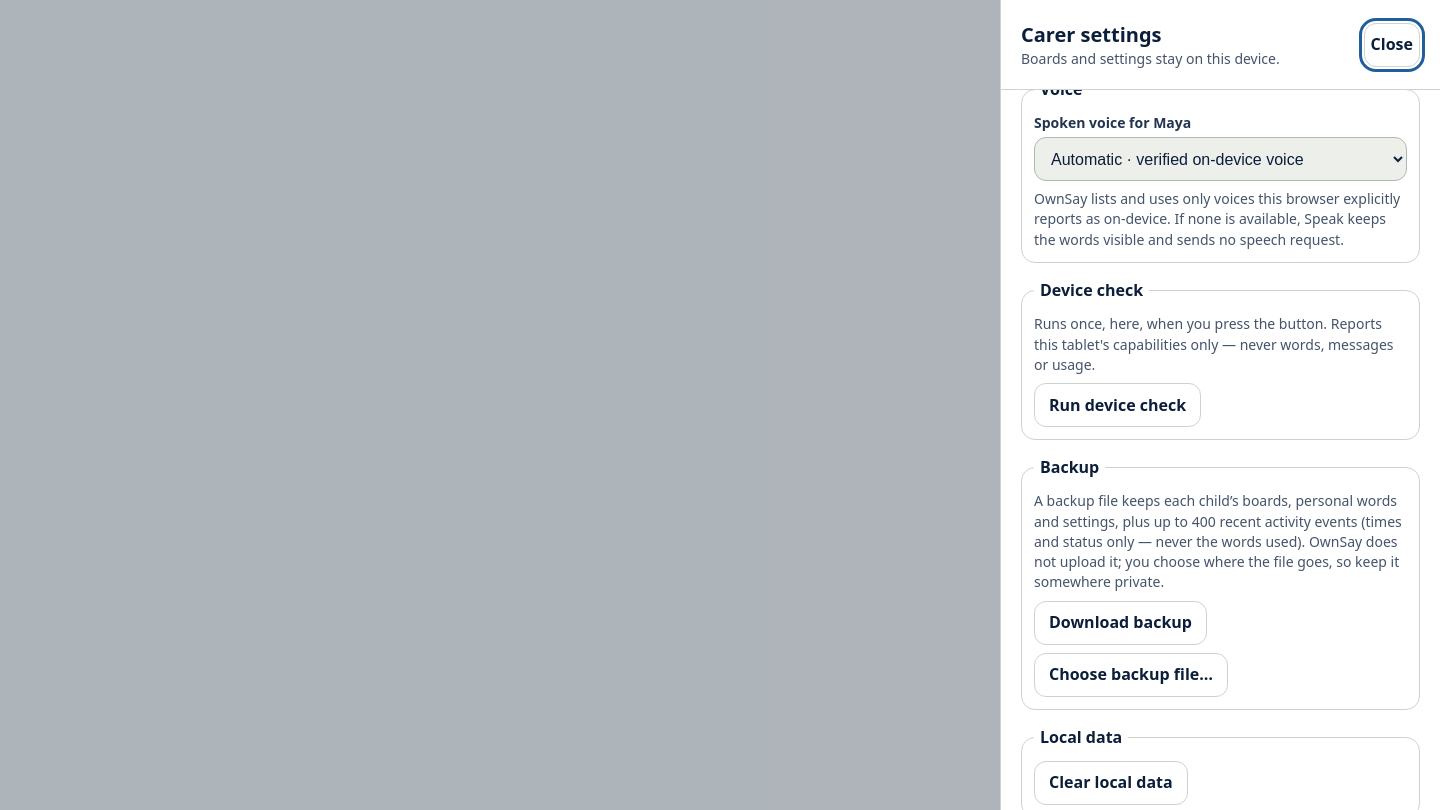
it: carer drawer › device check audible proof › records an honest not-heard answer when the carer says so
(page scrolled)
Click the button "Run device check" at (1118, 405), box 1034,383 -> 1201,427
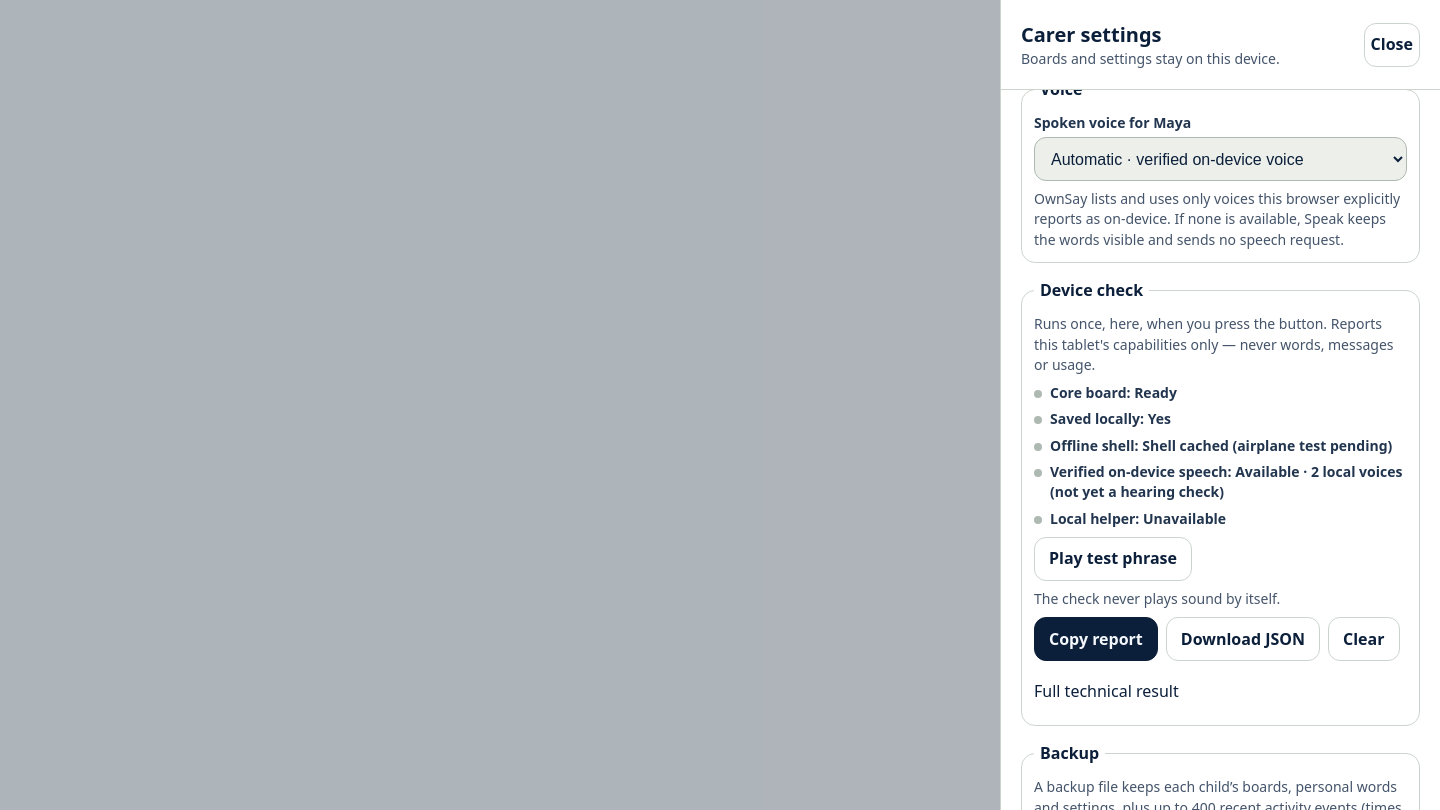
Expected: the list item "Verified on-device speech:" is shown, 1050,462 -> 1232,481
Click the button "Play test phrase" at (1113, 559), box 1034,537 -> 1192,581
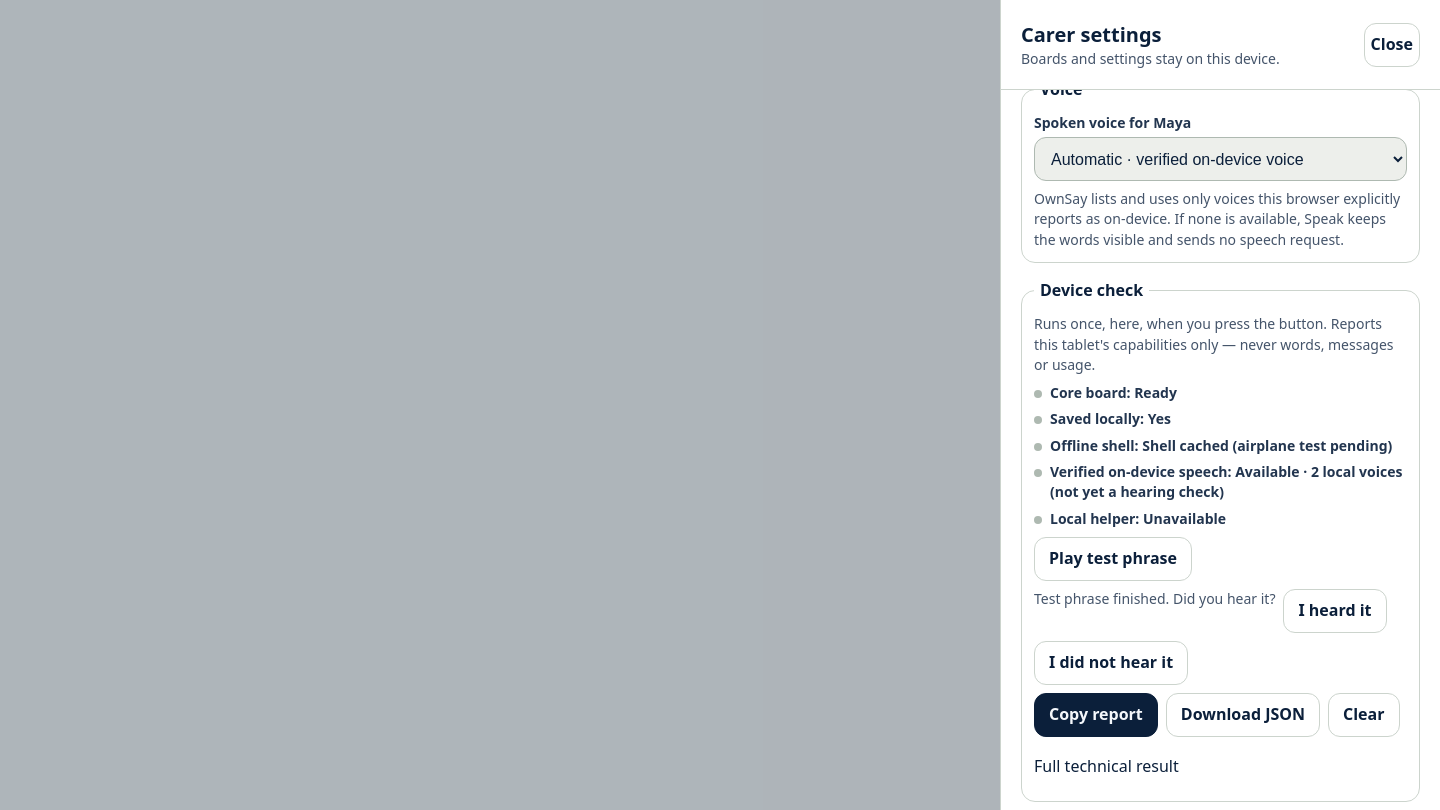
Expected: the text "Test phrase finished. Did you hear it?" is shown, 1034,589 -> 1276,608
Click the button "I did not hear it" at (1111, 663), box 1034,641 -> 1188,685
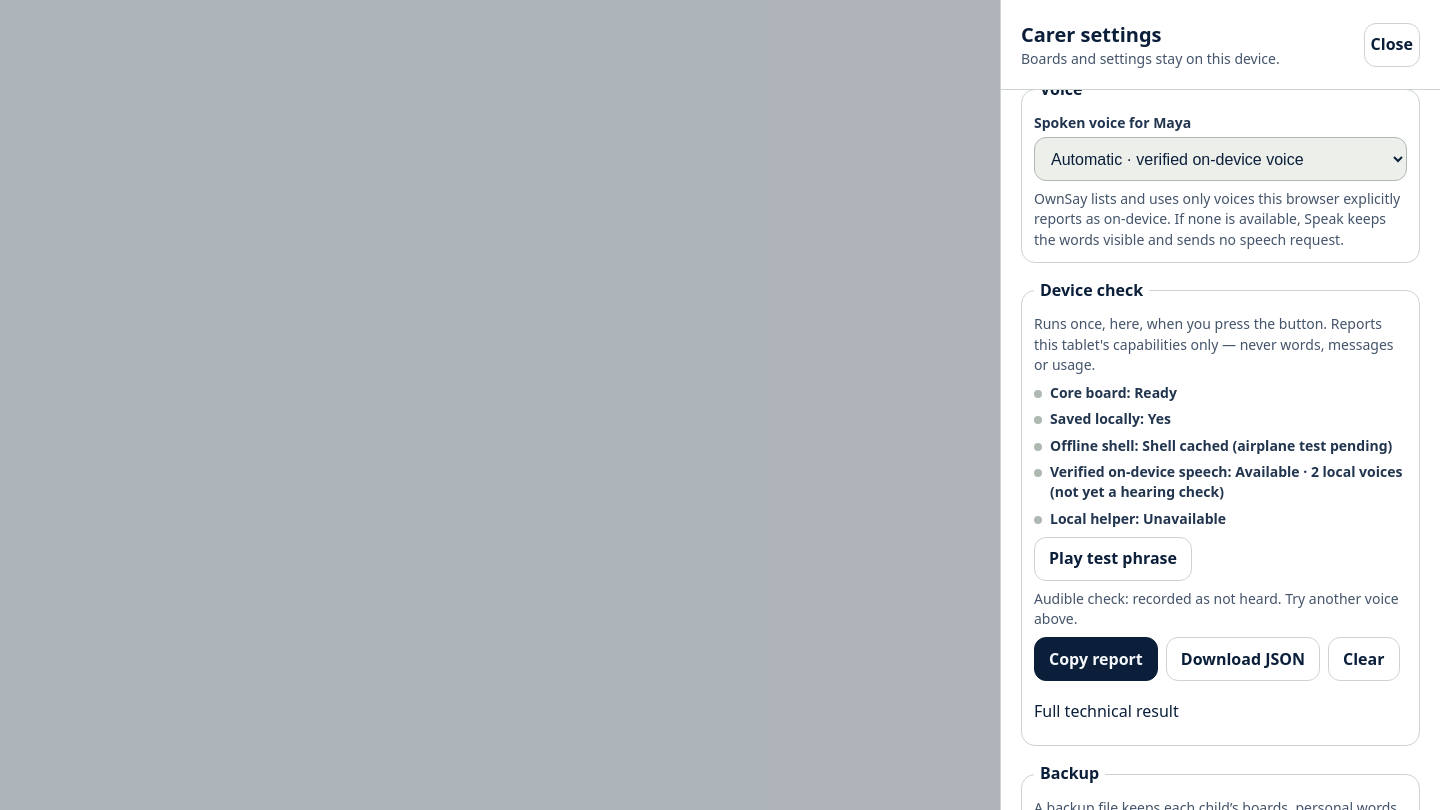
Expected: the text "Audible check: recorded as not heard. Try another voice above." is shown, 1034,589 -> 1407,630
